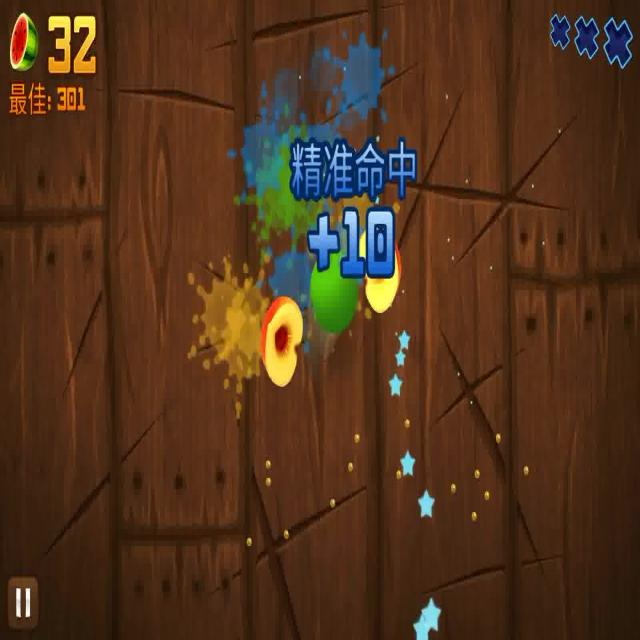fruit: (259, 292, 301, 385), (312, 251, 358, 331), (360, 227, 400, 311)
